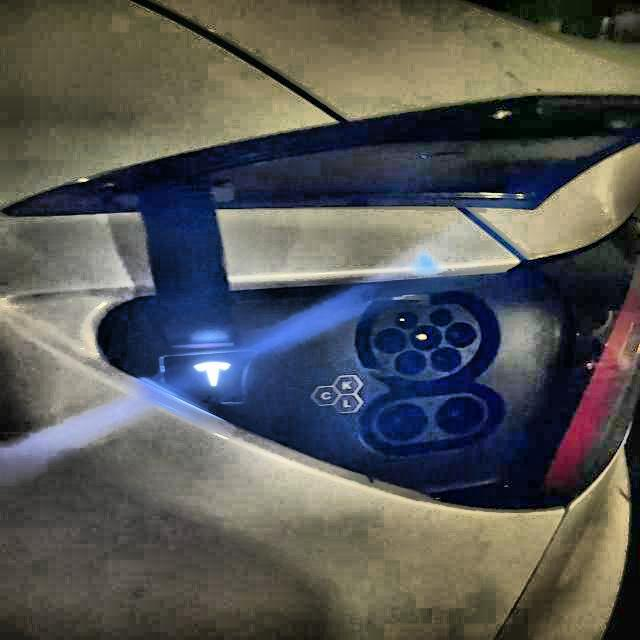inlet: (370, 304, 481, 381)
inlet-above-left: (395, 312, 418, 329)
inlet-above-right: (429, 309, 453, 326)
inlet-below-left: (394, 350, 427, 375)
inlet-below-right: (430, 347, 462, 372)
inlet-center: (409, 325, 442, 351)
inlet-center-left: (374, 328, 408, 354)
inlet-center-right: (445, 322, 477, 348)
